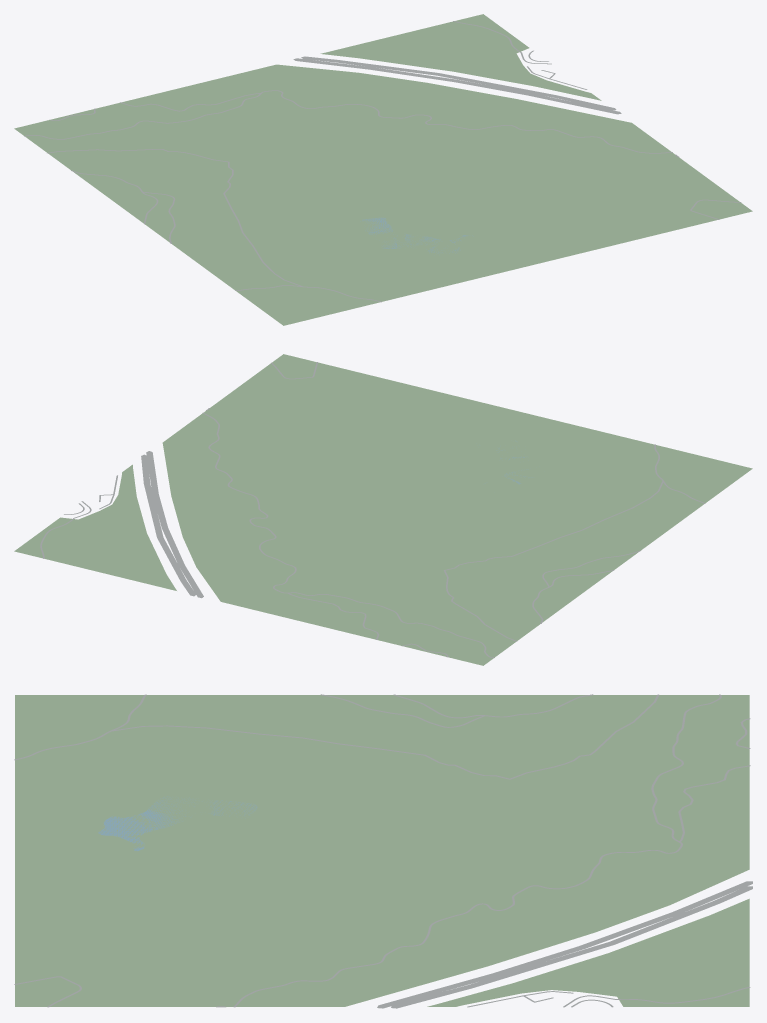
The model's file is -16_8-known-coarse.glb.
The picture shows the model from 3 angles, top to bottom: view 1: azimuth 30°, elevation 25°; view 2: azimuth 150°, elevation 25°; view 3: azimuth 270°, elevation 25°; orthographic projection. The views are drawn at different scales.
Size of the model in its own units: 1006 by 0.1 by 1000.
